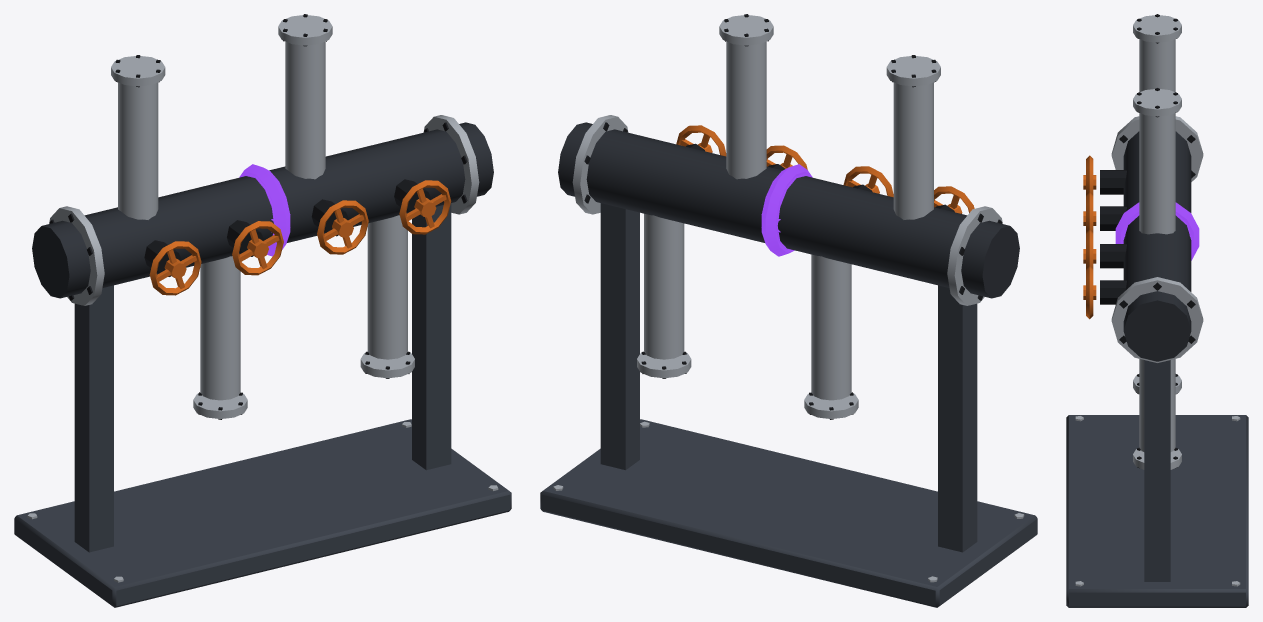
The model's file is coil_plasma_manifold.glb.
The picture shows the model from 3 angles, left to right: view 1: azimuth 30°, elevation 25°; view 2: azimuth 150°, elevation 25°; view 3: azimuth 270°, elevation 25°; orthographic projection. The views are drawn at different scales.
Parts seen in each view (by area): view 1: coil_plasma_manifold; view 2: coil_plasma_manifold; view 3: coil_plasma_manifold.
Part boxes in pixels (<box>): coil_plasma_manifold: <box>14,14,511,607</box>; coil_plasma_manifold: <box>540,14,1037,607</box>; coil_plasma_manifold: <box>1066,14,1248,607</box>.
Bounding box in the file's own units: 1.7 × 1.87 × 0.7.
